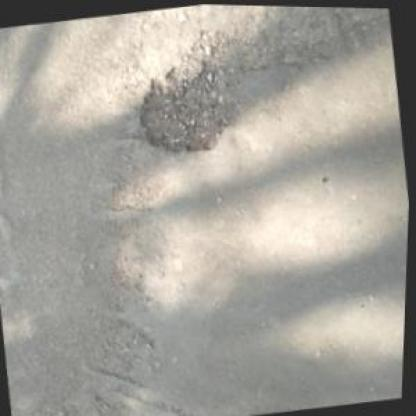pothole: (128, 44, 241, 164)
